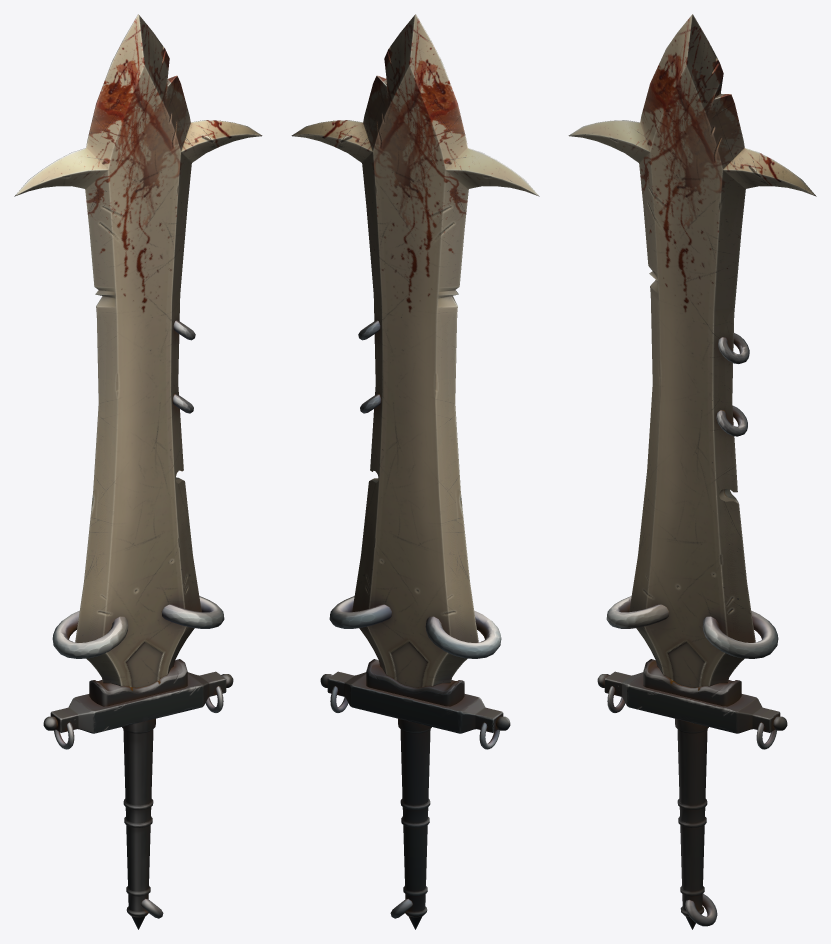
File: SM_Sword_171.gltf
The picture shows the model from 3 angles, left to right: view 1: azimuth 30°, elevation 25°; view 2: azimuth 150°, elevation 25°; view 3: azimuth 330°, elevation 25°; orthographic projection.
Visible parts, largest first — view 1: SM_Sword_171; view 2: SM_Sword_171; view 3: SM_Sword_171.
Part boxes in pixels (bbox=[...]): SM_Sword_171: bbox=[14, 14, 262, 929]; SM_Sword_171: bbox=[291, 14, 539, 929]; SM_Sword_171: bbox=[568, 14, 816, 929].
Bounding box in the file's own units: 0.4273 × 1.5 × 0.1165.
1 material, 1 textured.
